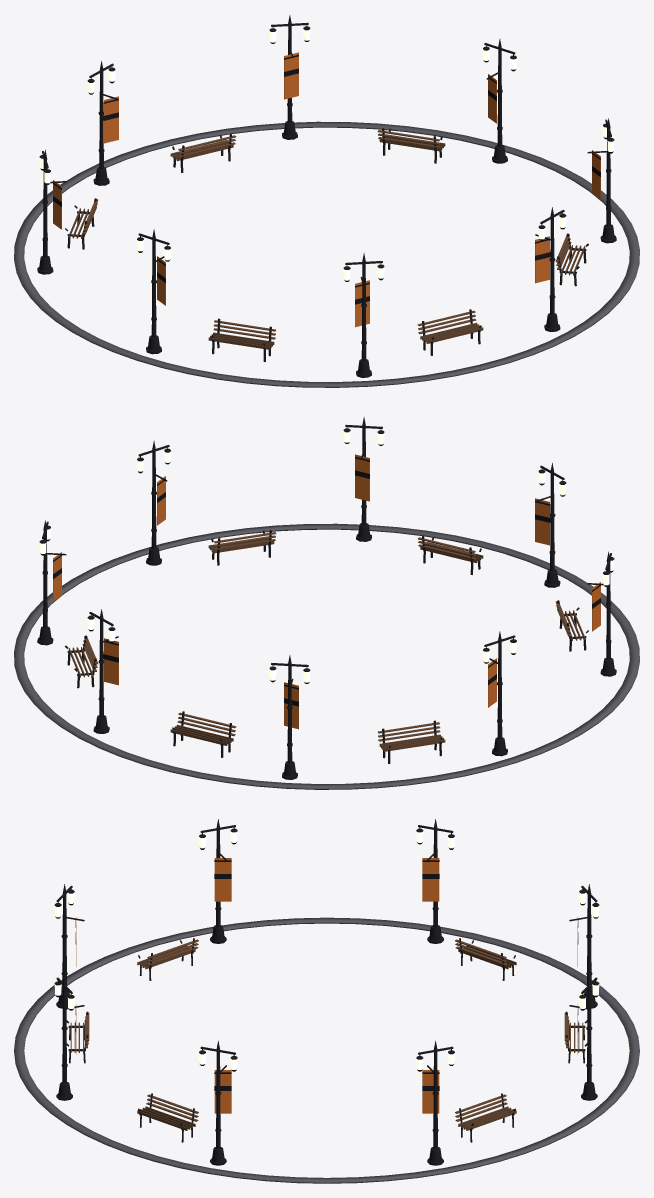
File: hg-plaza.glb
The picture shows the model from 3 angles, top to bottom: view 1: azimuth 30°, elevation 25°; view 2: azimuth 150°, elevation 25°; view 3: azimuth 270°, elevation 25°; orthographic projection.
Parts seen in each view (by area): view 1: hg-plaza; view 2: hg-plaza; view 3: hg-plaza.
Boxes of the visible parts, x1,y1,x2,y2 form: hg-plaza: (14,15,639,387); hg-plaza: (14,417,639,789); hg-plaza: (14,819,639,1183).
Bounding box in the file's own units: 18.3 × 3.95 × 18.3.
